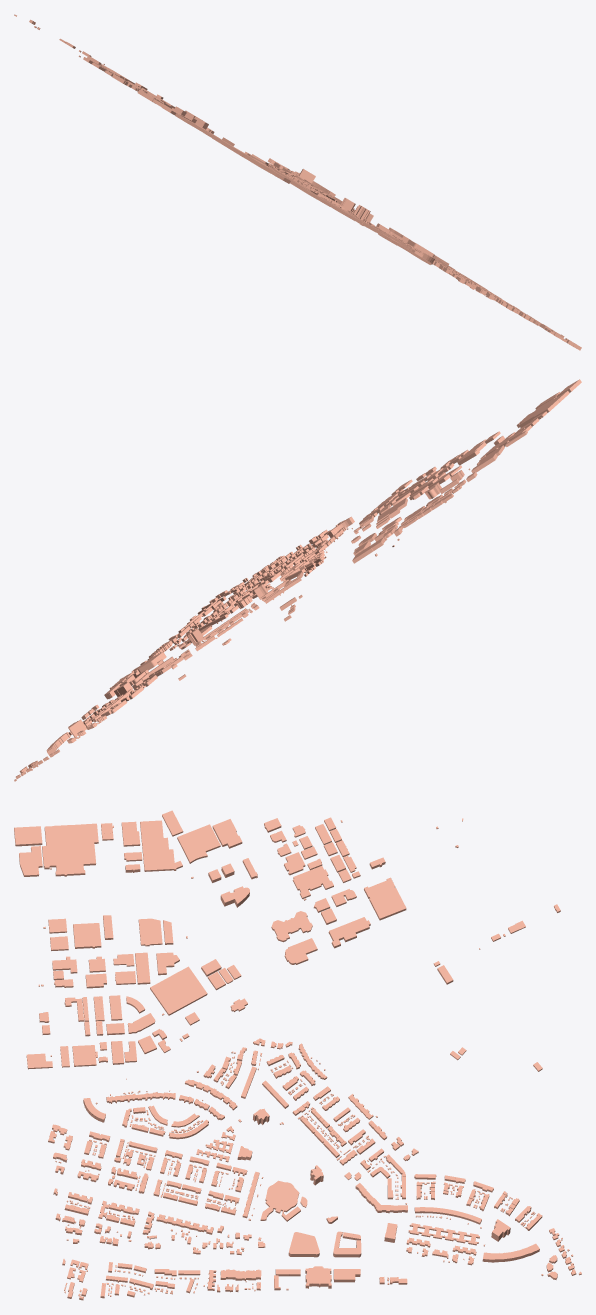
3 renders of one model, top to bottom at view 1: azimuth 30°, elevation 25°; view 2: azimuth 150°, elevation 25°; view 3: azimuth 270°, elevation 25°, orthographic. The views are drawn at different scales.
Size of the model in its own units: 1015 by 771 by 1294.
